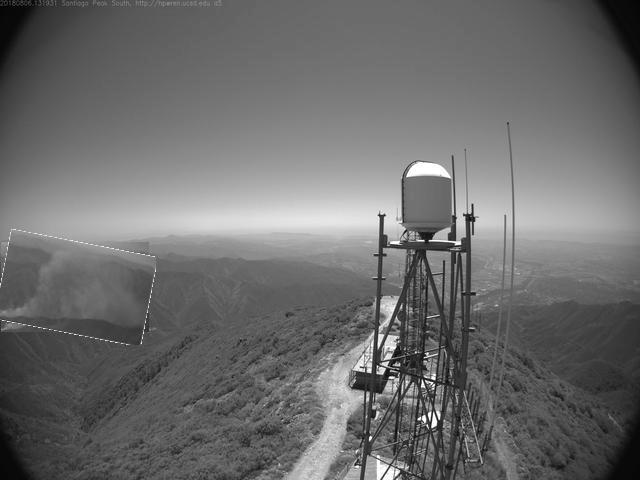smoke: (1, 236, 155, 341)
